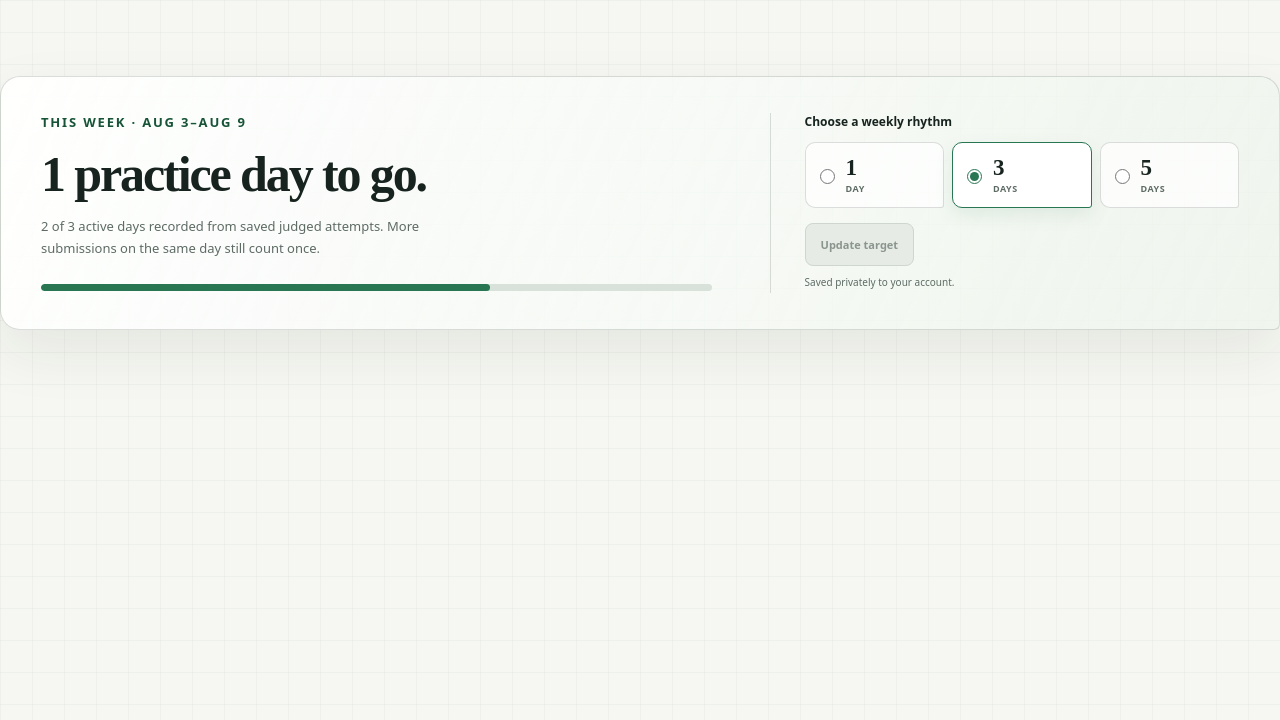
Test case: CodingPracticeGoal › keeps the previous target truthful after a failed save
Click the radio button labelled "5 days" at (1122, 176), box [1114,169,1130,184]
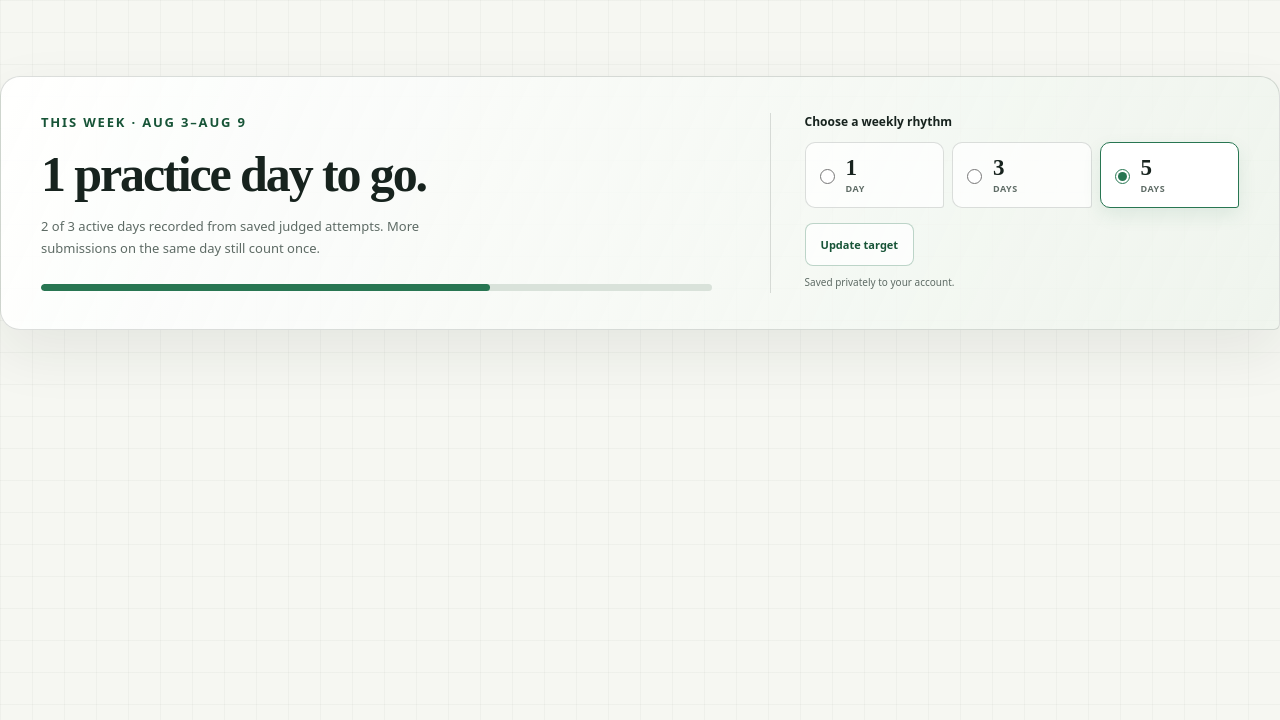
Click the button "Update target" at (859, 244), box [805,223,914,266]
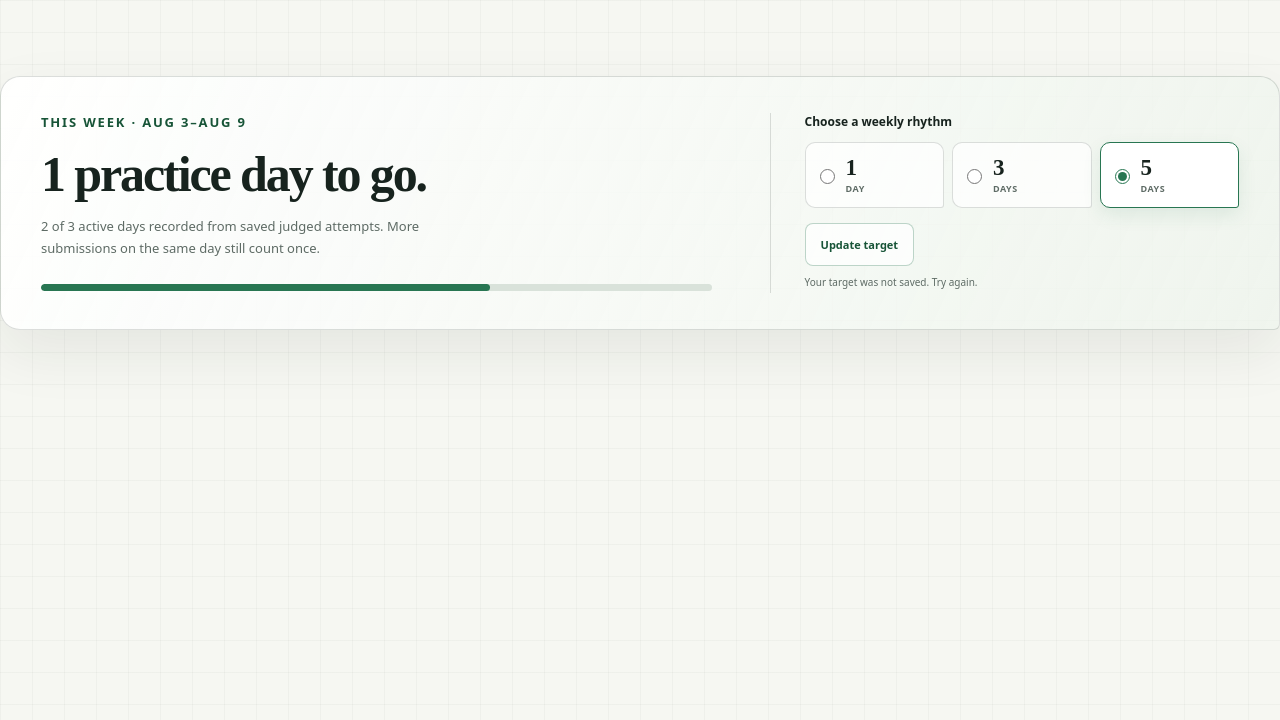
Expected: the heading "1 practice day to go." is shown, [41,146,426,202]
Expected: the text "Your target was not saved. Try again." is shown, [805,275,978,289]
